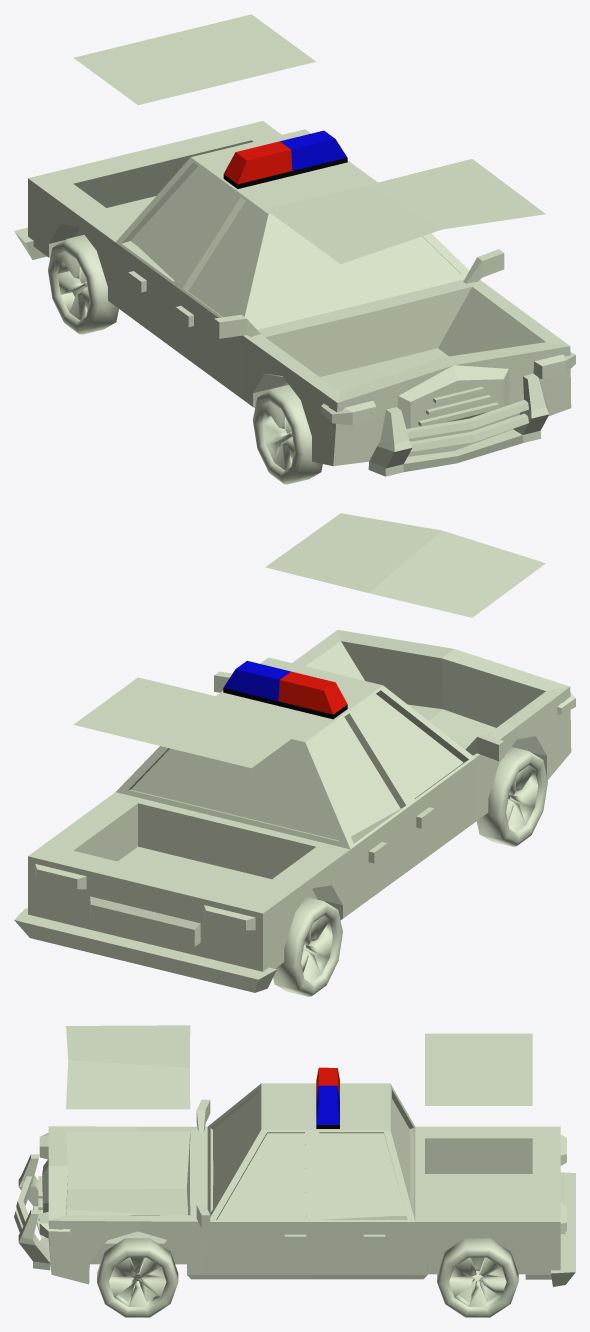
File: police.fbx
3 views of the same model, one above another, from view 1: azimuth 30°, elevation 25°; view 2: azimuth 150°, elevation 25°; view 3: azimuth 270°, elevation 25° (orthographic). The views are drawn at different scales.
Parts seen in each view (by area): view 1: car root, glass, mask_front, trunk, doors, rear wheels, front wheels, mirrors, color rear wheels, color wheels front; view 2: car root, glass, mask_front, trunk, doors, front wheels, rear wheels, color wheels front, color rear wheels, mirrors; view 3: car root, glass, mask_front, trunk, doors, rear wheels, front wheels, color rear wheels, color wheels front, mirrors.
Boxes of the visible parts, left/top/right/bottom form: car root: left=14, top=121, right=575, bottom=476; glass: left=131, top=166, right=460, bottom=324; mask_front: left=265, top=159, right=545, bottom=263; trunk: left=73, top=14, right=315, bottom=105; doors: left=175, top=192, right=268, bottom=399; rear wheels: left=48, top=234, right=118, bottom=334; front wheels: left=252, top=385, right=322, bottom=484; mirrors: left=214, top=249, right=504, bottom=338; color rear wheels: left=57, top=254, right=89, bottom=320; color wheels front: left=262, top=404, right=294, bottom=470; car root: left=14, top=630, right=575, bottom=992; glass: left=131, top=694, right=463, bottom=840; mask_front: left=265, top=513, right=545, bottom=617; trunk: left=73, top=677, right=315, bottom=768; doors: left=352, top=685, right=478, bottom=867; front wheels: left=476, top=747, right=547, bottom=846; rear wheels: left=273, top=897, right=342, bottom=996; color wheels front: left=506, top=766, right=538, bottom=832; color rear wheels: left=301, top=916, right=332, bottom=982; mirrors: left=214, top=671, right=504, bottom=761; car root: left=14, top=1067, right=575, bottom=1286; glass: left=213, top=1093, right=409, bottom=1219; mask_front: left=66, top=1025, right=190, bottom=1109; trunk: left=425, top=1033, right=532, bottom=1105; doors: left=202, top=1130, right=313, bottom=1274; rear wheels: left=437, top=1238, right=518, bottom=1317; front wheels: left=97, top=1238, right=178, bottom=1317; color rear wheels: left=449, top=1257, right=506, bottom=1306; color wheels front: left=109, top=1257, right=166, bottom=1306; mirrors: left=196, top=1099, right=210, bottom=1228.
Bounding box in the file's own units: 1321 × 1111 × 2718.
